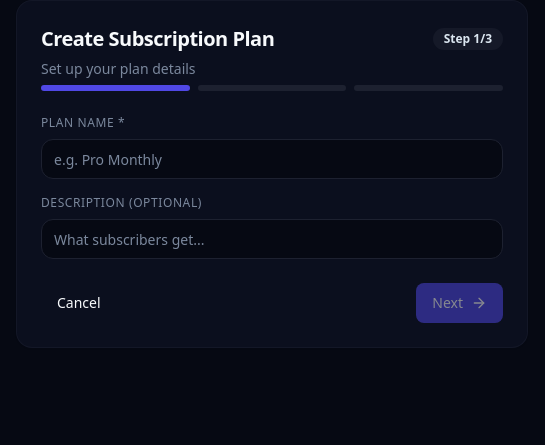
CreatePlanForm › advances to step 2 and validates amount
# Fill name and advance
In the field with placeholder "e.g. Pro Monthly": [272, 159] box [41,139,503,179], type "Test Plan"
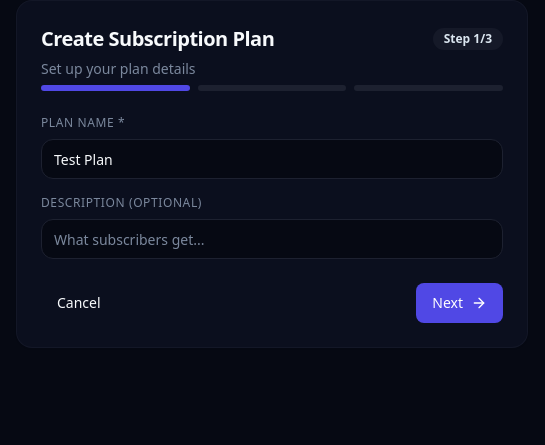
Click the button "Next": [460, 303] box [416,283,503,323]
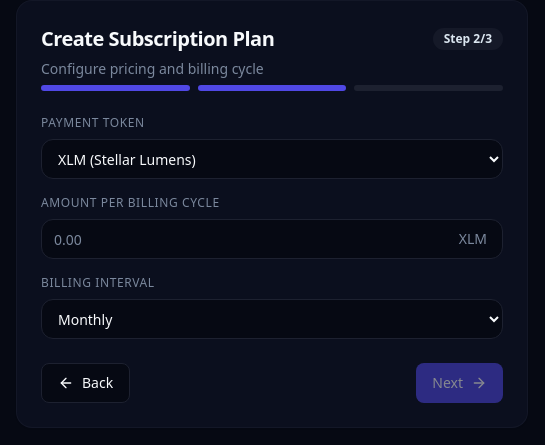
Now the text "Step 2/3" is shown, box [433,28,503,50]
Now the number field with placeholder "0.00" is shown
Now the button "Next" is disabled, box [416,363,503,403]
# Fill amount and verify enabled
In the number field with placeholder "0.00": [272, 239] box [41,219,503,259], type "10"
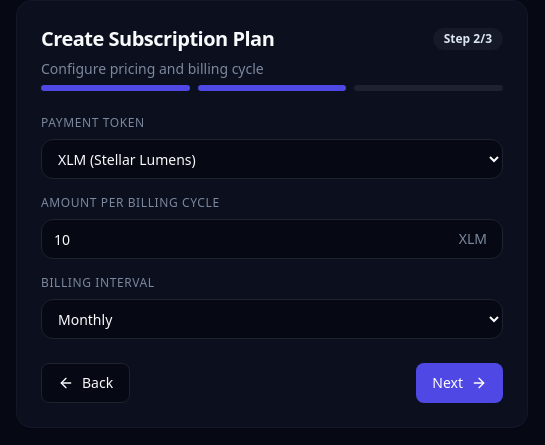
Now the button "Next" is enabled, box [416,363,503,403]
